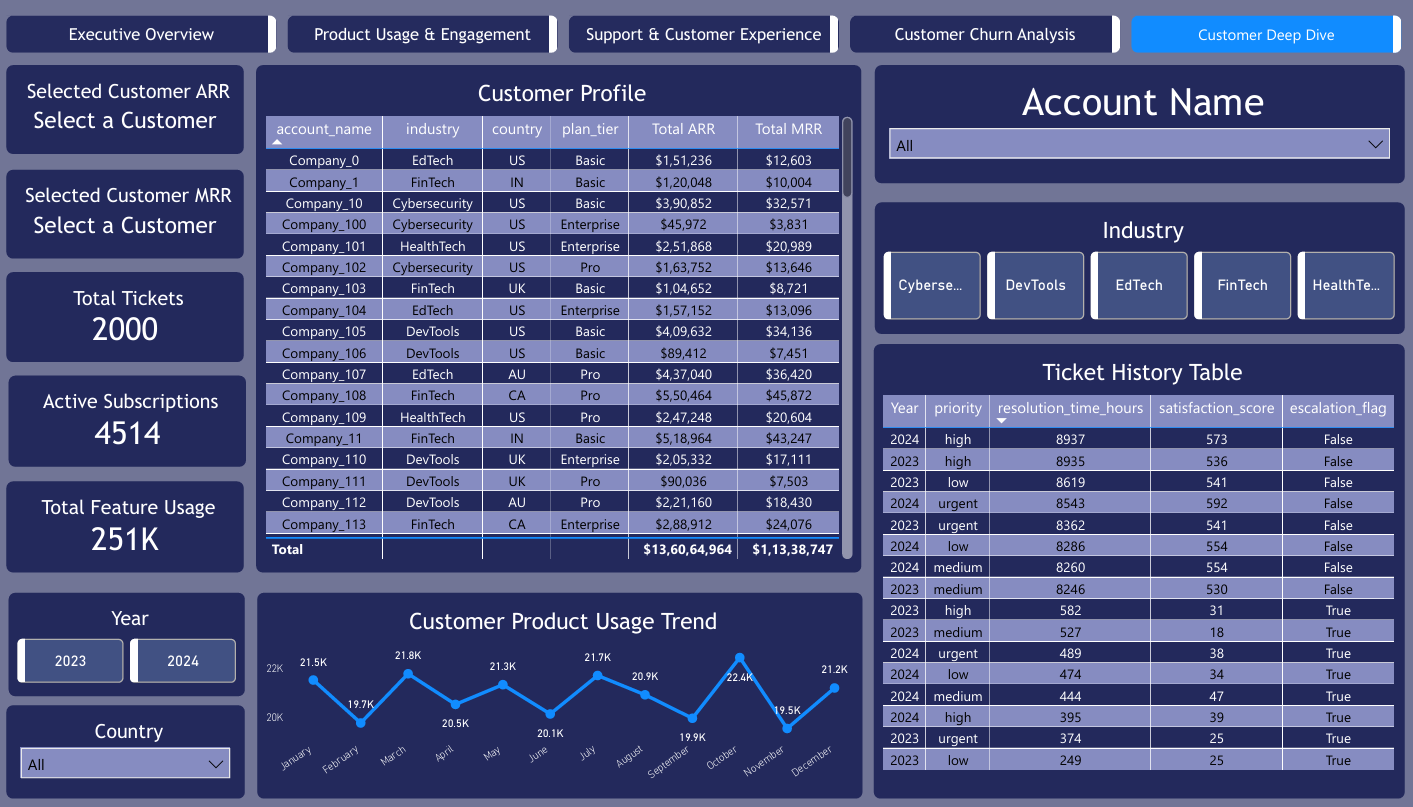

The page's visual inventory and layout, read from the dashboard file:
{"tool":"powerbi","page":{"name":"Customer Deep Dive","canvas":[1280,720],"ordinal":4},"visuals":[{"type":"card","title":"Selected Customer ARR","fields":{"Values":["DAX Measures.Selected Customer ARR measure"]},"box":[19.3,56.7,211.1,79.6],"z":0},{"type":"card","title":"Selected Customer MRR","fields":{"Values":["DAX Measures.Selected Customer MRR measure"]},"box":[19.3,149.6,211.1,79.6],"z":1000},{"type":"card","title":"Active Subscriptions","fields":{"Values":["CountNonNull(customer_subscriptions.subscription_status)"]},"box":[20.5,333,211.1,80.8],"z":2000},{"type":"tableEx","title":"Ticket History Table","fields":{"Values":["customer_support_tickets.submitted_at.Variation.Date Hierarchy.Year","customer_support_tickets.priority","Sum(customer_support_tickets.resolution_time_hours)","Sum(customer_support_tickets.satisfaction_score)","customer_support_tickets.escalation_flag"]},"box":[790.2,305.2,471.7,404.2],"z":3000},{"type":"tableEx","title":"Customer Profile ","fields":{"Values":["customer_accounts.account_name","customer_accounts.industry","customer_accounts.country","customer_accounts.plan_tier","DAX Measures.Total ARR","DAX Measures.Total MRR"]},"box":[241.3,56.7,538.1,451.2],"z":4000},{"type":"slicer","title":"Country","fields":{"Values":["customer_accounts.country"]},"box":[19.4,625.5,211.4,83.8],"z":6000},{"type":"advancedSlicerVisual","title":"Industry","fields":{"Values":["customer_accounts.industry"]},"box":[790.7,178.6,471.3,117.8],"z":7000},{"type":"slicer","title":"Account Name","fields":{"Values":["customer_accounts.account_name"]},"box":[790.7,57.1,471.3,104.5],"z":8000},{"type":"card","title":"Total Feature Usage","fields":{"Values":["DAX Measures.Total Feature Usage"]},"box":[19.3,427.1,211.1,80.8],"z":9000},{"type":"card","title":"Total Tickets","fields":{"Values":["CountNonNull(customer_support_tickets.ticket_id)"]},"box":[19.3,241.3,211.1,79.6],"z":10000},{"type":"pageNavigator","box":[19.3,13.3,1242.6,32.6],"z":11000},{"type":"lineChart","title":"Customer Product Usage Trend","fields":{"Category":["product_usage_metrics.usage_date.Variation.Date Hierarchy.Month"],"Y":["Sum(product_usage_metrics.usage_count)"]},"box":[241.7,525.9,538.1,183.4],"z":12000},{"type":"advancedSlicerVisual","fields":{"Values":["product_usage_metrics.usage_date.Variation.Date Hierarchy.Year"]},"box":[20.6,525.9,210.1,92.3],"z":13000}]}

Visuals, with their boxes in screenshot pixels (x1, y1, x2, y2), scaled from the page's 1280x720 canvas onto the 1413x807 screenshot:
"Selected Customer ARR" card: <bbox>21, 64, 254, 153</bbox>
"Selected Customer MRR" card: <bbox>21, 168, 254, 257</bbox>
"Active Subscriptions" card: <bbox>23, 373, 256, 464</bbox>
"Ticket History Table" tableEx: <bbox>872, 342, 1393, 795</bbox>
"Customer Profile " tableEx: <bbox>266, 64, 860, 569</bbox>
"Country" slicer: <bbox>21, 701, 255, 795</bbox>
"Industry" advancedSlicerVisual: <bbox>873, 200, 1393, 332</bbox>
"Account Name" slicer: <bbox>873, 64, 1393, 181</bbox>
"Total Feature Usage" card: <bbox>21, 479, 254, 569</bbox>
"Total Tickets" card: <bbox>21, 270, 254, 360</bbox>
pageNavigator: <bbox>21, 15, 1393, 51</bbox>
"Customer Product Usage Trend" lineChart: <bbox>267, 589, 861, 795</bbox>
advancedSlicerVisual - product_usage_metrics.usage_date.Variation.Date Hierarchy.Year: <bbox>23, 589, 255, 693</bbox>
